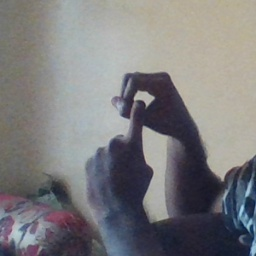Q: (83, 65, 187, 197)
